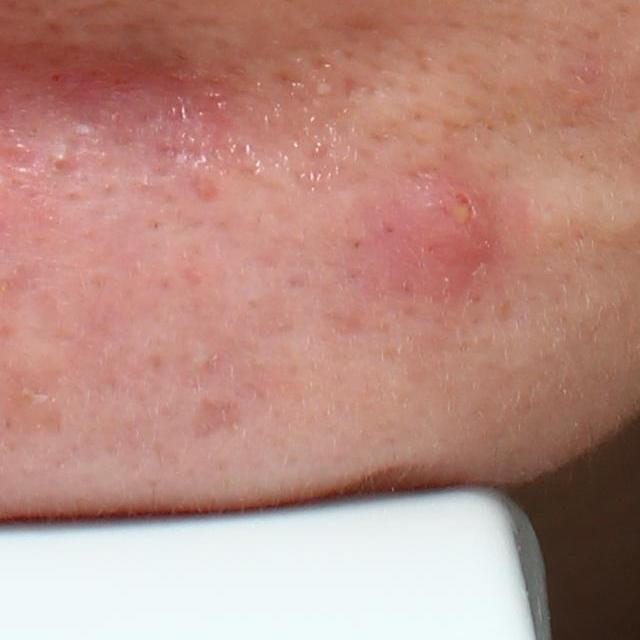atrophic_scar: (191, 396, 244, 442)
papule: (48, 149, 70, 169)
pustule: (384, 175, 518, 291)
